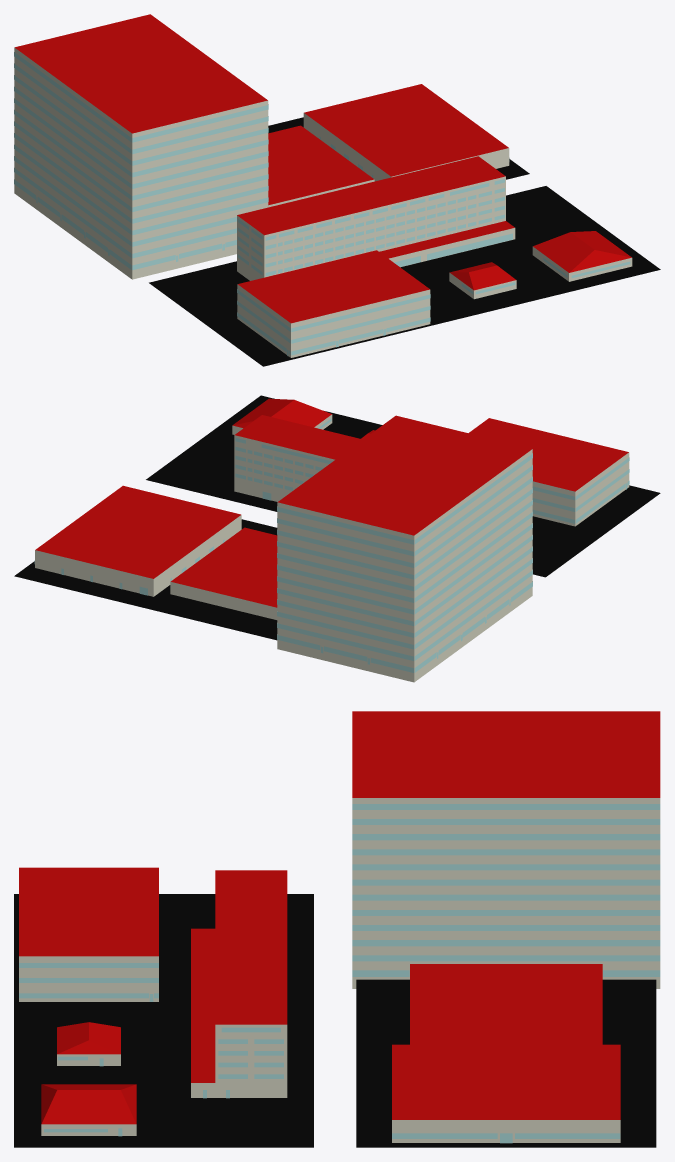
3 renders of one model, top to bottom at view 1: azimuth 30°, elevation 25°; view 2: azimuth 150°, elevation 25°; view 3: azimuth 270°, elevation 25°, orthographic. The views are drawn at different scales.
Visible parts, largest first — view 1: Roofs, Walls, Windows, Ground; view 2: Roofs, Walls, Windows, Ground; view 3: Roofs, Ground, Walls, Windows.
Part boxes in pixels (bbox=[...]): Roofs: bbox=[15, 14, 631, 323]; Walls: bbox=[14, 47, 632, 357]; Windows: bbox=[14, 52, 630, 355]; Ground: bbox=[149, 117, 660, 366]; Roofs: bbox=[35, 398, 628, 607]; Walls: bbox=[35, 414, 629, 682]; Windows: bbox=[34, 418, 629, 672]; Ground: bbox=[14, 395, 660, 640]; Roofs: bbox=[19, 711, 660, 1124]; Ground: bbox=[14, 894, 656, 1147]; Walls: bbox=[19, 798, 660, 1142]; Windows: bbox=[19, 804, 660, 1143].
Size of the model in its own units: 143 by 50 by 154.
